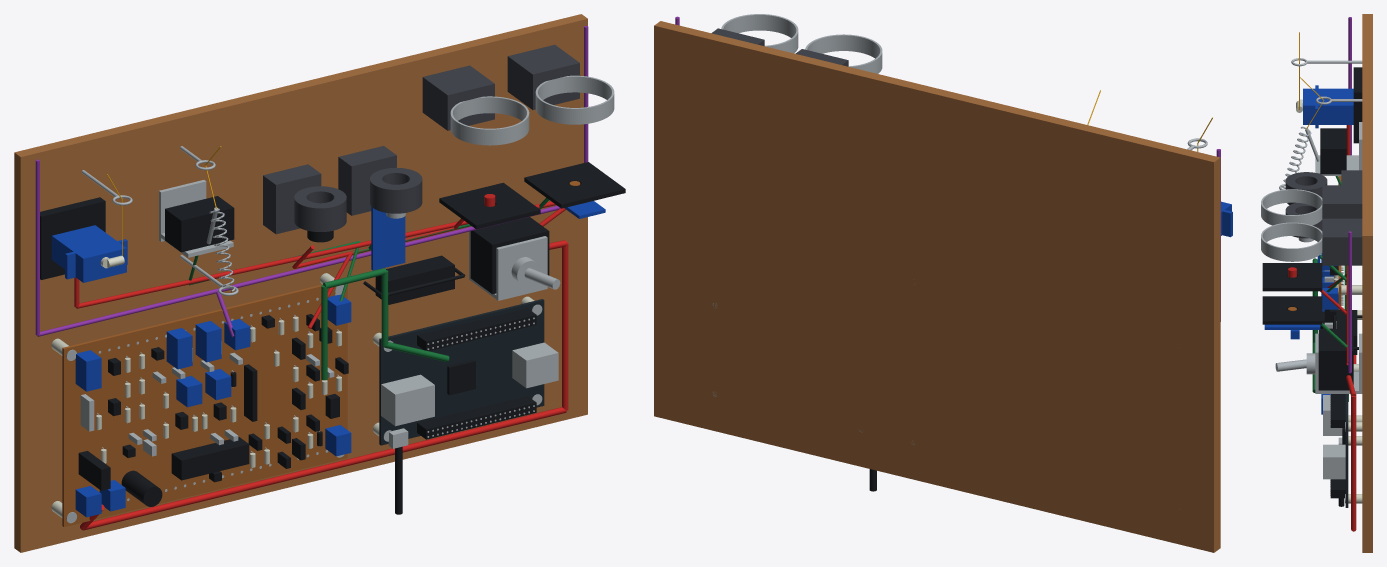
The model's file is TRAMA3_B.obj.
The picture shows the model from 3 angles, left to right: view 1: azimuth 30°, elevation 25°; view 2: azimuth 150°, elevation 25°; view 3: azimuth 270°, elevation 25°; orthographic projection. The views are drawn at different scales.
Parts seen in each view (by area): view 1: B_MDF_300x200, B_Perfboard_150x90, B_BBB_PCB, B_Arnes_potencia, B_C0_AB_calce, B_C0_BA_calce, B_SW2_final_carrera, B_SG90_cuerpo, B_SW287_cuerpo, B_C0_AB_tapa, B_C0_BA_abrazadera, B_C0_AB_abrazadera (+26 smaller); view 2: B_MDF_300x200, B_C0_BA_abrazadera, B_C0_AB_abrazadera; view 3: B_MDF_300x200, B_SW287_cuerpo, B_C0_AB_calce, B_C0_AB_tapa, B_C0_AB_abrazadera, B_SG90_cuerpo, B_C0_BA_tapa, B_C0_BA_abrazadera, B_C0_BA_calce, B_SW2_final_carrera, B_Arnes_potencia, B_BBB_USB_A (+26 smaller).
Boxes of the visible parts, <box> form: B_MDF_300x200: <box>14,14,587,552</box>; B_Perfboard_150x90: <box>62,284,347,526</box>; B_BBB_PCB: <box>379,299,544,445</box>; B_Arnes_potencia: <box>80,240,568,530</box>; B_C0_AB_calce: <box>507,44,579,109</box>; B_C0_BA_calce: <box>422,65,494,130</box>; B_SW2_final_carrera: <box>165,196,234,252</box>; B_SG90_cuerpo: <box>51,225,126,282</box>; B_SW287_cuerpo: <box>470,217,549,294</box>; B_C0_AB_tapa: <box>524,162,625,208</box>; B_C0_BA_abrazadera: <box>450,96,529,145</box>; B_C0_AB_abrazadera: <box>535,75,614,124</box>; B_MDF_300x200: <box>654,21,1220,552</box>; B_C0_BA_abrazadera: <box>805,34,882,73</box>; B_C0_AB_abrazadera: <box>721,14,798,53</box>; B_MDF_300x200: <box>1362,14,1372,552</box>; B_SW287_cuerpo: <box>1318,329,1353,390</box>; B_C0_AB_calce: <box>1322,218,1362,265</box>; B_C0_AB_tapa: <box>1262,296,1322,324</box>; B_C0_AB_abrazadera: <box>1261,222,1322,261</box>; B_SG90_cuerpo: <box>1303,88,1353,124</box>; B_C0_BA_tapa: <box>1262,263,1322,291</box>; B_C0_BA_abrazadera: <box>1261,189,1322,225</box>; B_C0_BA_calce: <box>1322,185,1362,218</box>; B_SW2_final_carrera: <box>1320,128,1346,174</box>; B_Arnes_potencia: <box>1346,355,1356,531</box>; B_BBB_USB_A: <box>1323,444,1345,479</box>.
Bounding box in the file's own units: 300 × 220 × 64.
